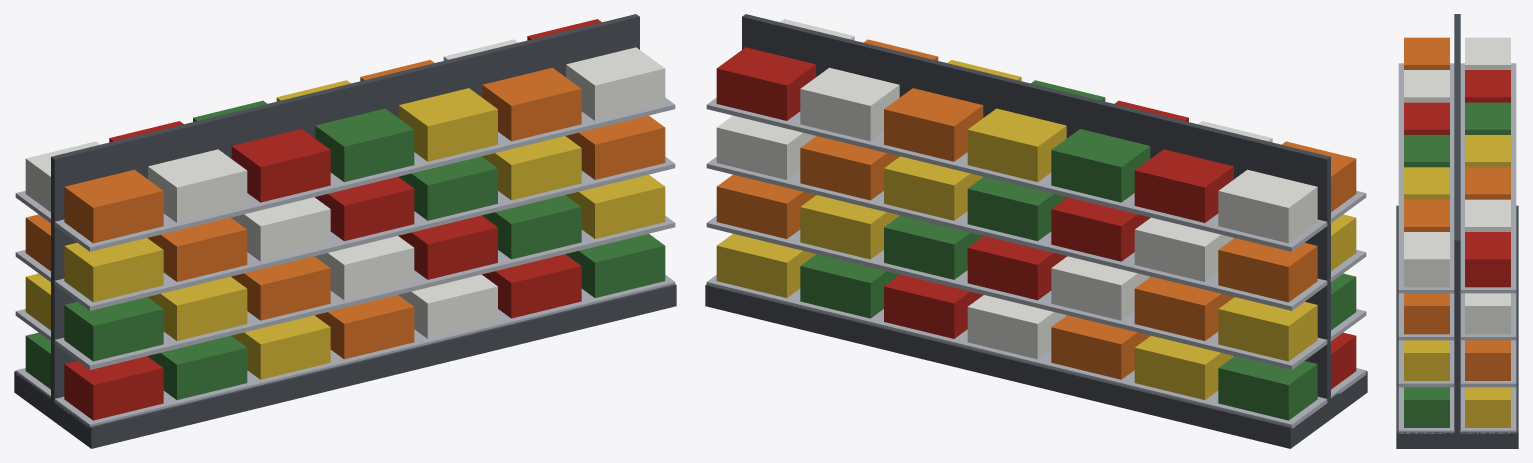
The model's file is shop aisle.glb.
3 renders of one model, left to right at view 1: azimuth 30°, elevation 25°; view 2: azimuth 150°, elevation 25°; view 3: azimuth 270°, elevation 25°, orthographic. The views are drawn at different scales.
Visible parts, largest first — view 1: shop aisle; view 2: shop aisle; view 3: shop aisle.
Part boxes in pixels (bbox=[...]): shop aisle: bbox=[14, 14, 676, 448]; shop aisle: bbox=[705, 14, 1367, 448]; shop aisle: bbox=[1396, 14, 1518, 448].
Size of the model in its own units: 3.5 by 1.5 by 0.8.
